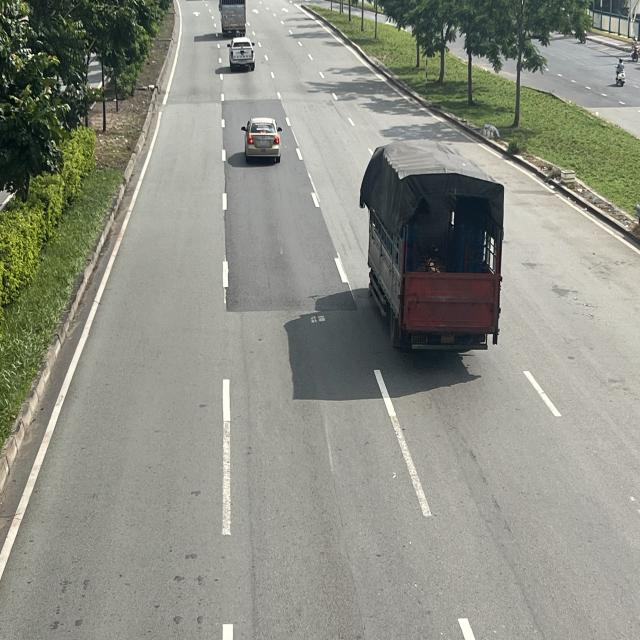car: (243, 117, 285, 163), (229, 38, 258, 72)
truck: (360, 136, 506, 353), (218, 0, 246, 35)
